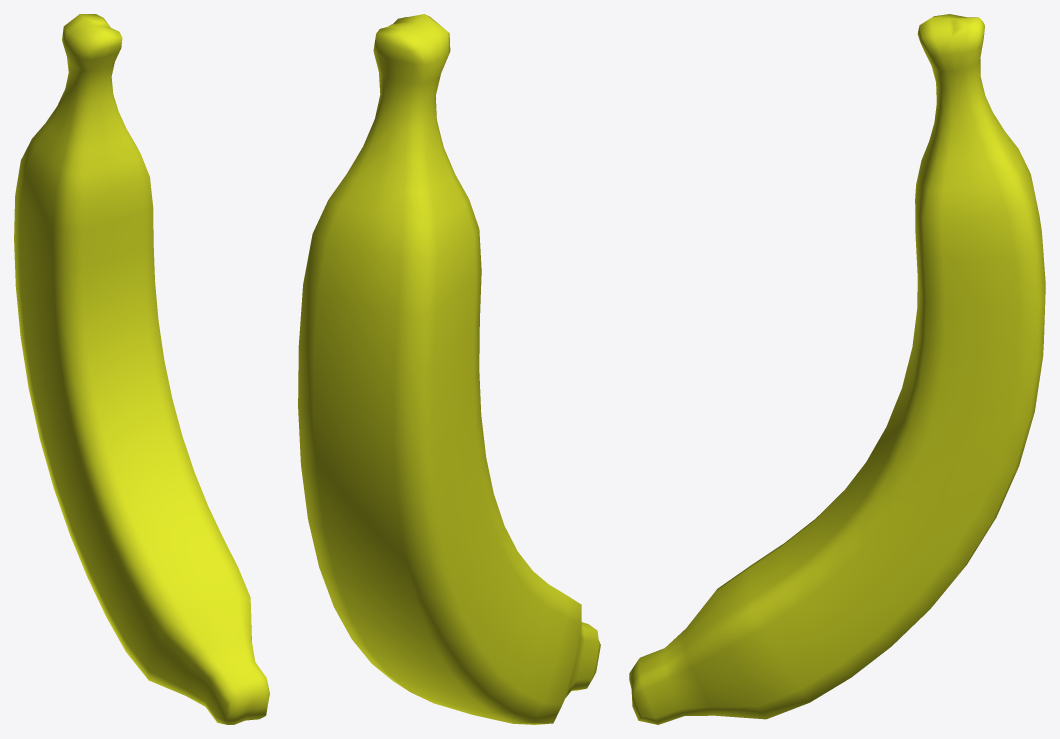
Rendered from banana.fbx.
3 renders of one model, left to right at view 1: azimuth 30°, elevation 25°; view 2: azimuth 150°, elevation 25°; view 3: azimuth 270°, elevation 25°, orthographic. The views are drawn at different scales.
Visible parts, largest first — view 1: Cube; view 2: Cube; view 3: Cube.
Boxes of the visible parts, bbox=[...] form: Cube: bbox=[14, 14, 269, 724]; Cube: bbox=[298, 14, 600, 724]; Cube: bbox=[629, 14, 1045, 724].
Bounding box in the file's own units: 4.63 × 24.94 × 13.63.
